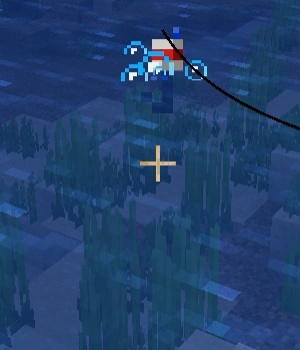up: (143, 33, 188, 125)
